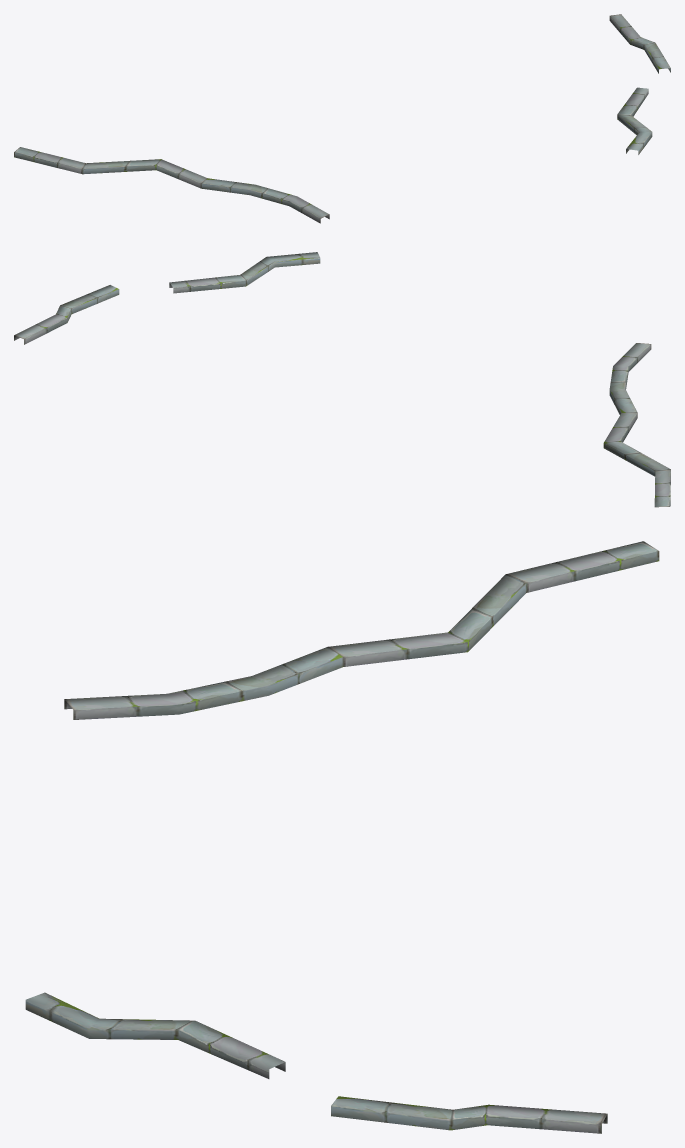
Rendered from Map_06_brick13.FBX.
3 renders of one model, top to bottom at view 1: azimuth 30°, elevation 25°; view 2: azimuth 150°, elevation 25°; view 3: azimuth 270°, elevation 25°, orthographic. The views are drawn at different scales.
Visible parts, largest first — view 1: Map_06_brick13; view 2: Map_06_brick13; view 3: Map_06_brick13.
Boxes of the visible parts, <box> form: Map_06_brick13: <box>14,14,670,223</box>; Map_06_brick13: <box>14,252,670,507</box>; Map_06_brick13: <box>25,541,659,1133</box>.
Size of the model in its own units: 6796 by 3123 by 55.2.
